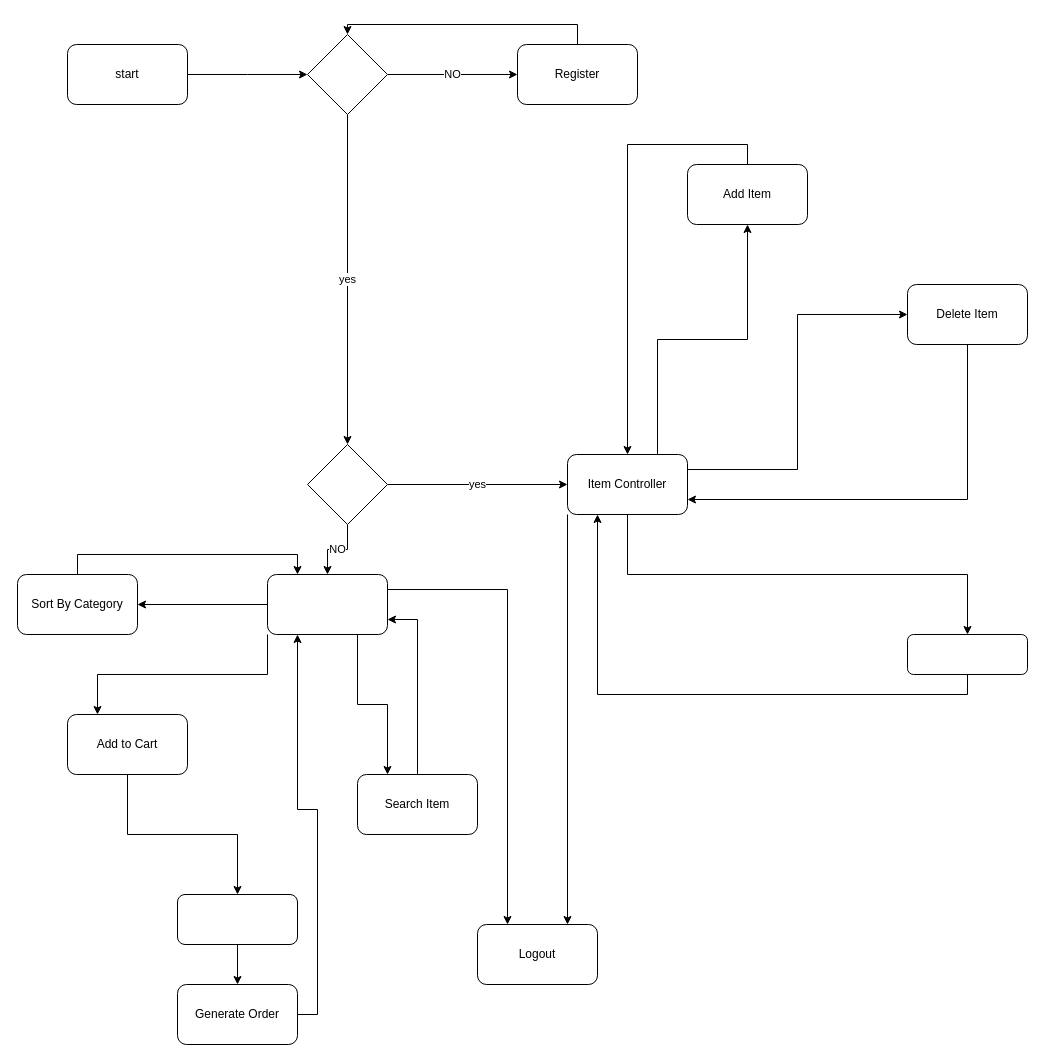
Image size: 1045x1062. Some labels were removed from this diagram. The centre of each missing label's shape, as x and y in pixels:
Edit Item: [967,654]
login: [347,74]
Shopping Cart: [237,919]
Shopping Controller: [327,604]
Vendor account?: [347,484]
